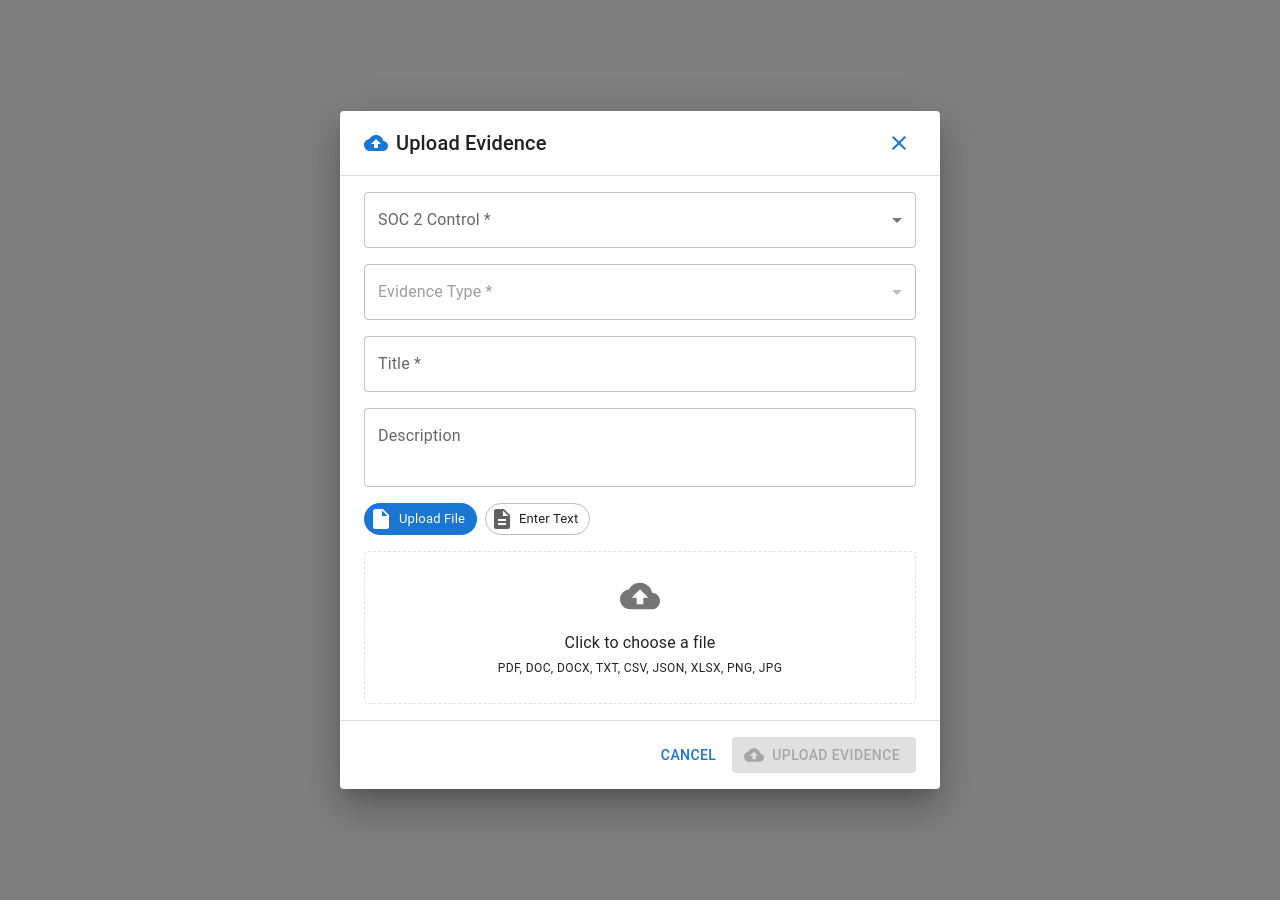
Test: EvidenceUpload › upload mode toggle › switches to text mode when Enter Text is clicked
Click the button "Enter Text" at (538, 519), box [485,503,590,535]
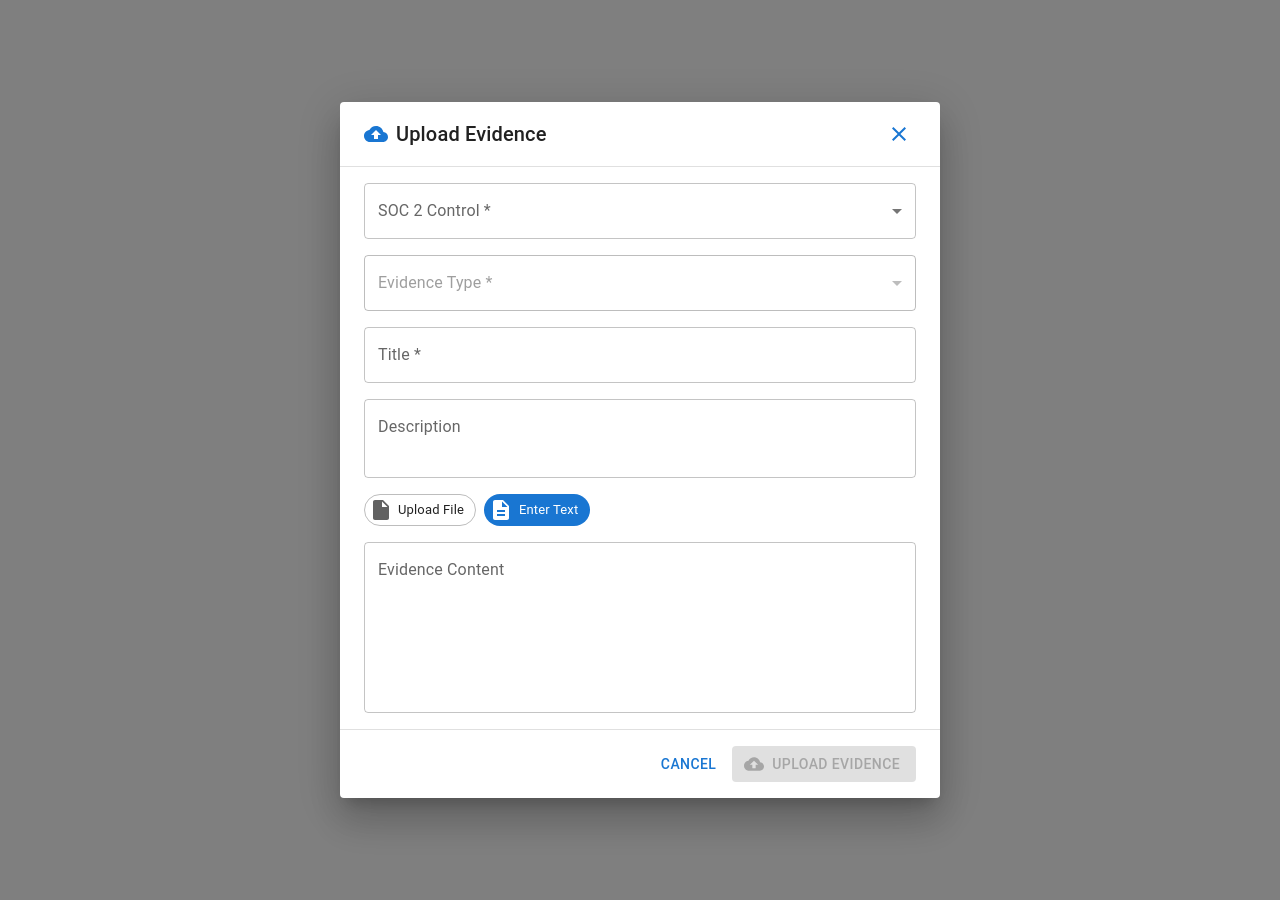
expect the text box labelled "Evidence Content" is shown: met, box [378,558,902,696]
